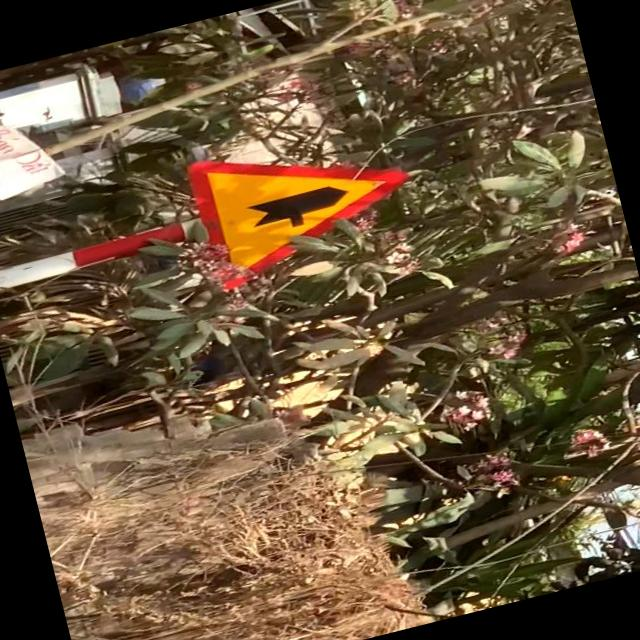W-207b: (185, 114, 423, 291)
